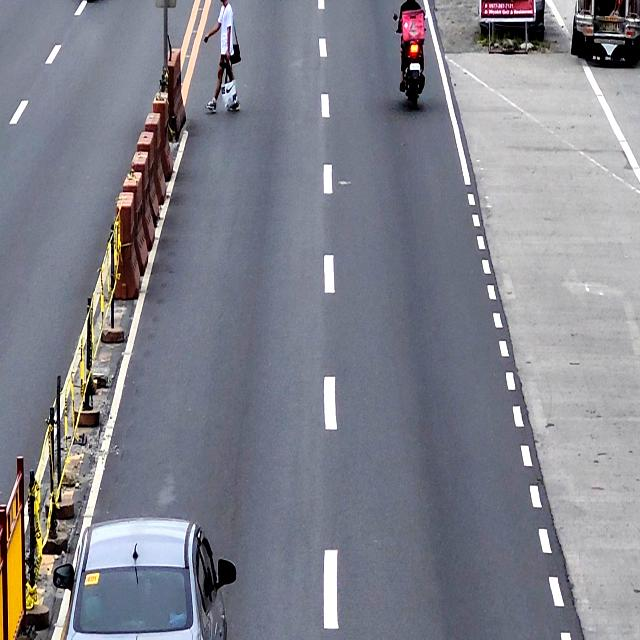Car: (64, 520, 229, 640)
Motorcycle: (398, 0, 427, 101)
